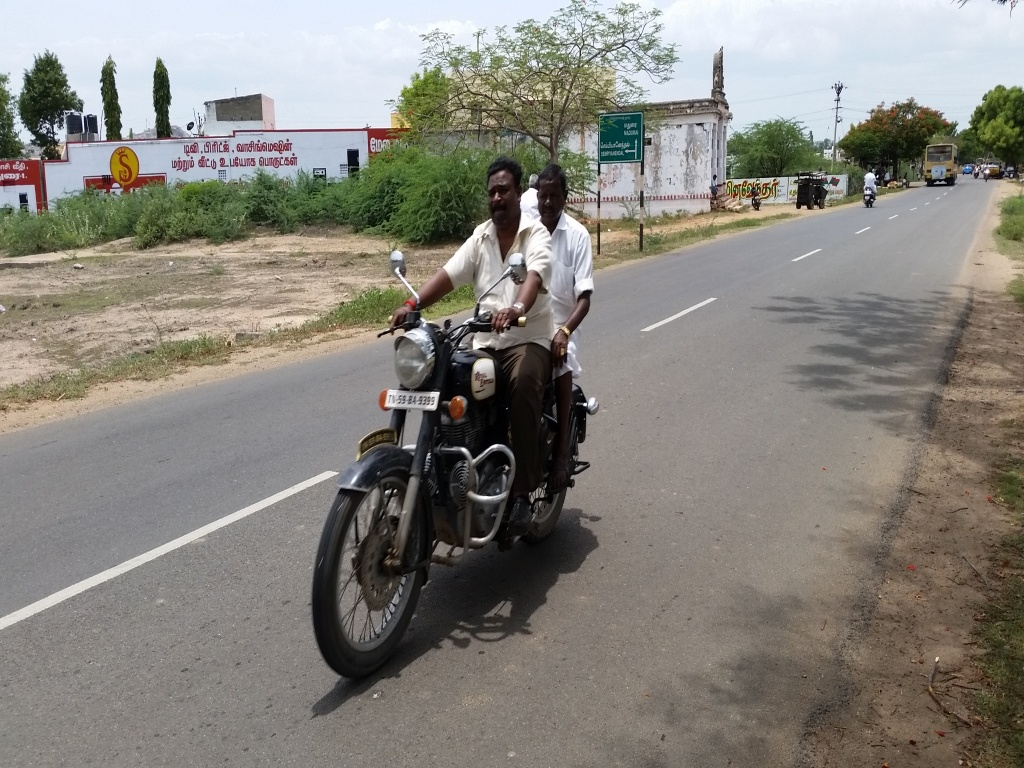biker: (291, 107, 632, 705)
nohelmet: (528, 153, 580, 240), (478, 151, 530, 238)
